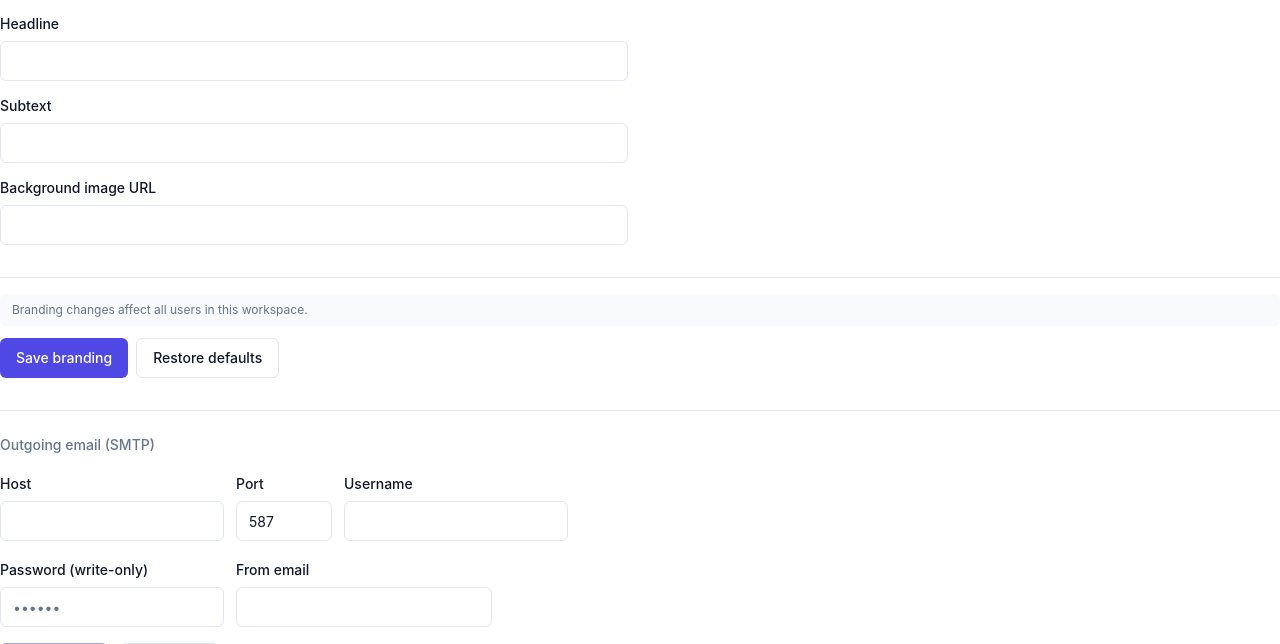
Scenario: BrandingSettings › restores defaults after confirmation
(page scrolled)
Click the button "Restore defaults".
click(208, 358)  # box 136,338 -> 279,378
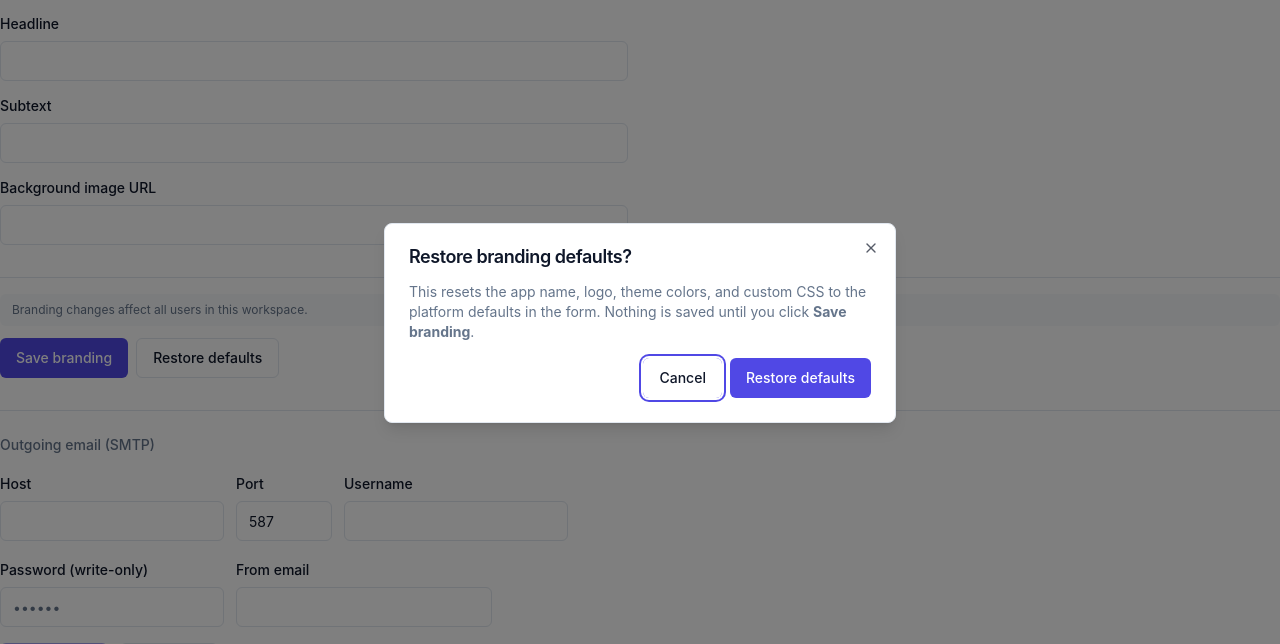
Click the button "Restore defaults".
click(800, 378)  # box 730,358 -> 871,398
(page scrolled)
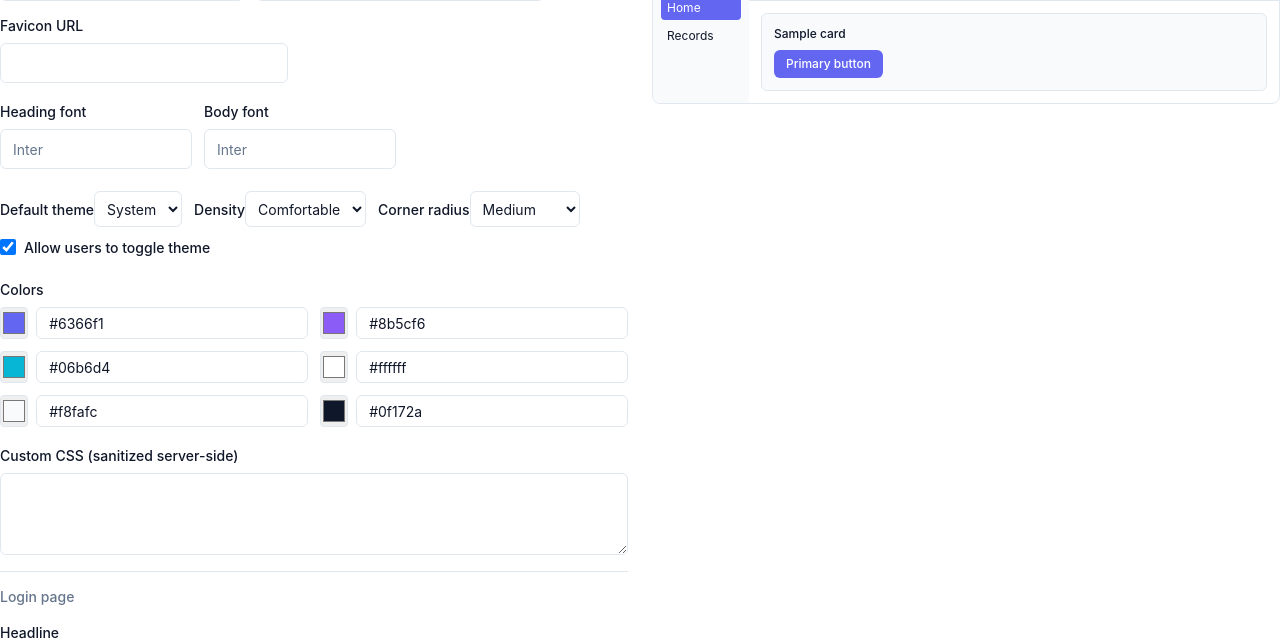
Check: the field named "Primary hex" holds "#6366f1", box 36,307 -> 308,339
